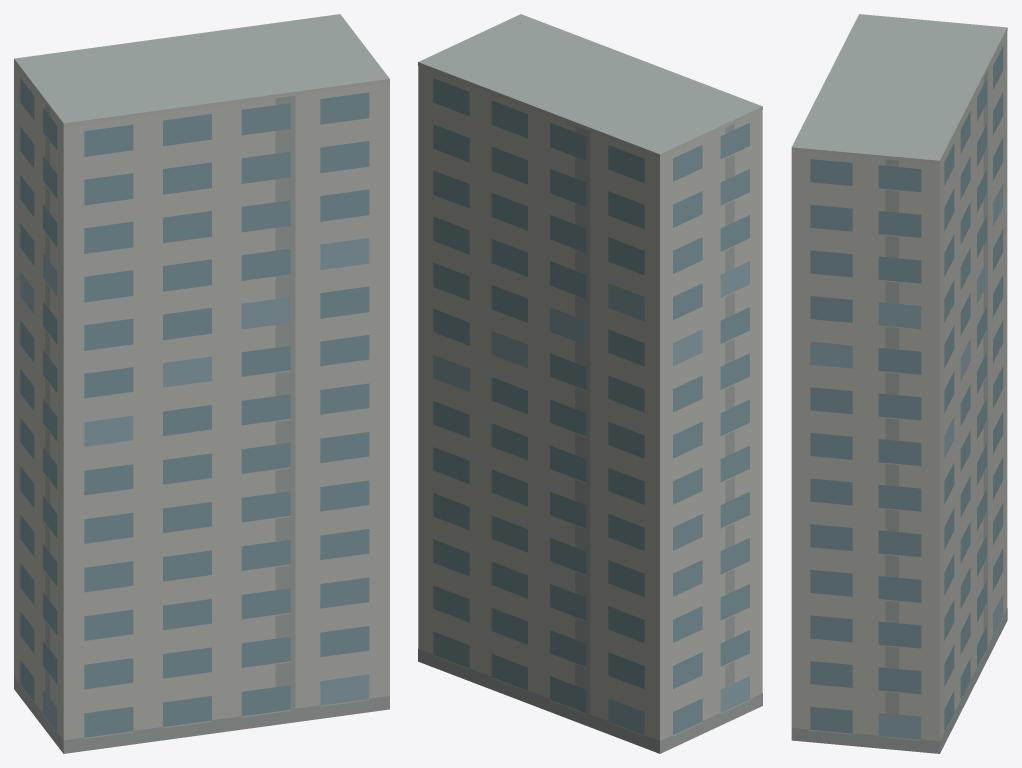
Rendered from residential-33c4ea70-279b-4ab0-b4fb-c3771379a137.glb.
3 renders of one model, left to right at view 1: azimuth 30°, elevation 25°; view 2: azimuth 150°, elevation 25°; view 3: azimuth 270°, elevation 25°, orthographic. The views are drawn at different scales.
Parts seen in each view (by area): view 1: residential-33c4ea70-279b-4ab0-b4fb-c3771379a137.tmp; view 2: residential-33c4ea70-279b-4ab0-b4fb-c3771379a137.tmp; view 3: residential-33c4ea70-279b-4ab0-b4fb-c3771379a137.tmp.
Boxes of the visible parts, x1,y1,x2,y2 form: residential-33c4ea70-279b-4ab0-b4fb-c3771379a137.tmp: (14, 14, 389, 753); residential-33c4ea70-279b-4ab0-b4fb-c3771379a137.tmp: (418, 14, 762, 753); residential-33c4ea70-279b-4ab0-b4fb-c3771379a137.tmp: (791, 14, 1007, 753).
Size of the model in its own units: 21.23 by 40 by 13.2.
